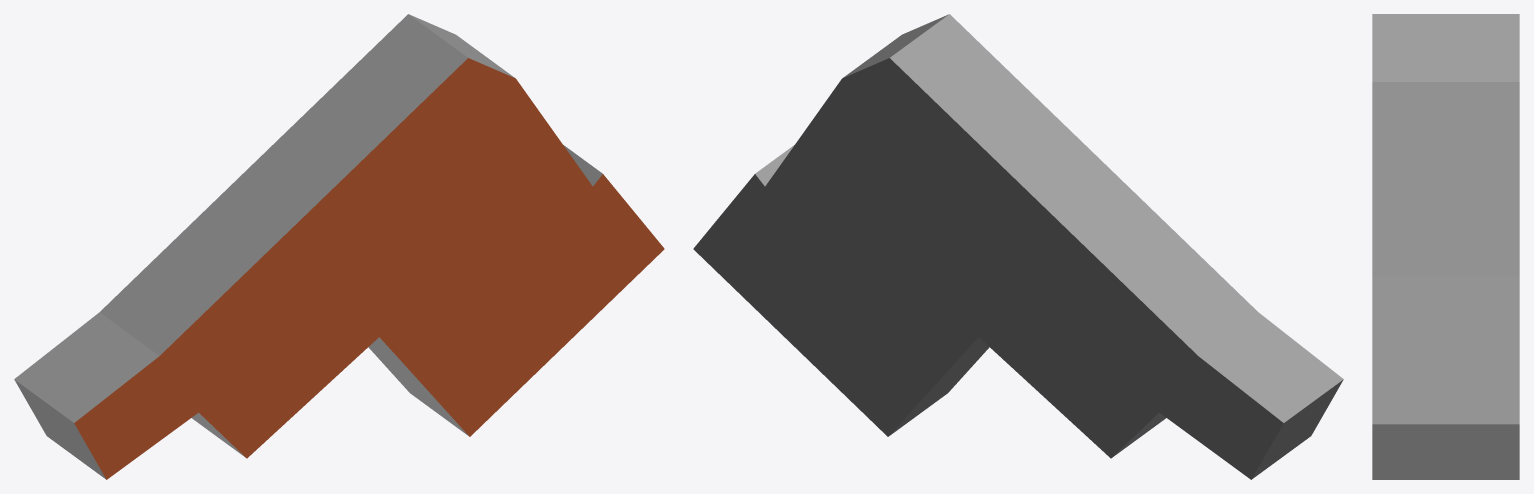
File: construction_1377_assumed_A_Casa_h6m.obj
3 views of the same model, side by side, from view 1: azimuth 30°, elevation 25°; view 2: azimuth 150°, elevation 25°; view 3: azimuth 270°, elevation 25° (orthographic). The views are drawn at different scales.
Parts seen in each view (by area): view 1: construction_1377_assumed_A_Casa; view 2: construction_1377_assumed_A_Casa; view 3: construction_1377_assumed_A_Casa.
Boxes of the visible parts, left/top/right/bottom form: construction_1377_assumed_A_Casa: left=14, top=14, right=664, bottom=479; construction_1377_assumed_A_Casa: left=693, top=14, right=1343, bottom=479; construction_1377_assumed_A_Casa: left=1372, top=14, right=1519, bottom=479.
Size of the model in its own units: 34.09 by 20.93 by 6.
